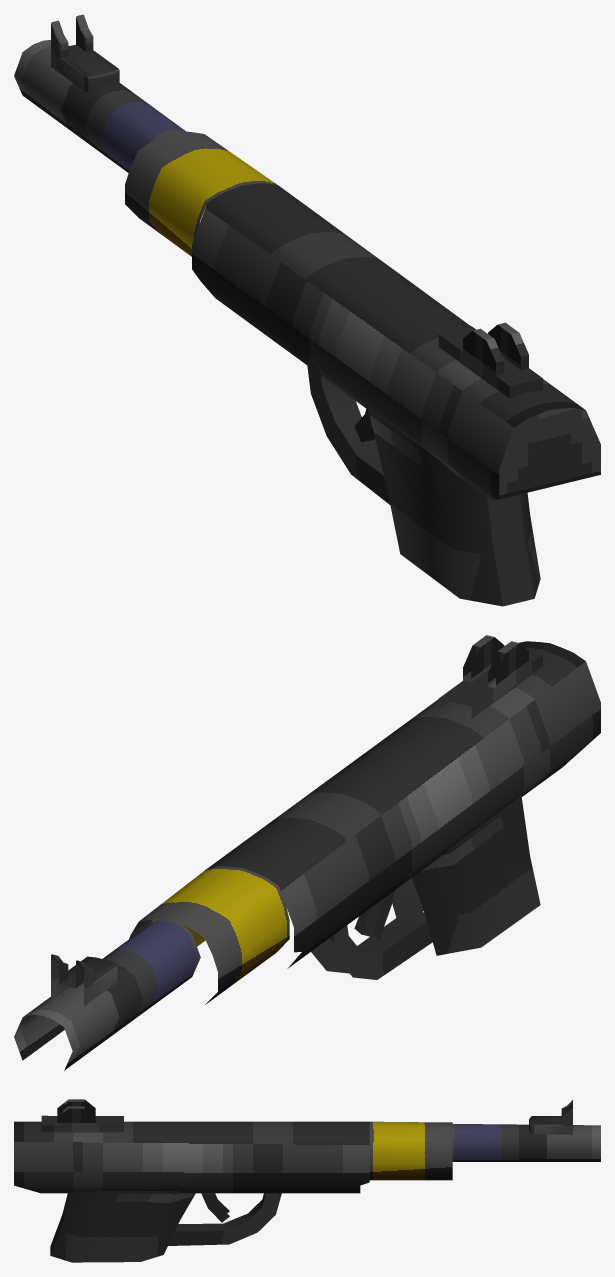
Rendered from v_dartgun.fbx.
3 views of the same model, one above another, from view 1: azimuth 30°, elevation 25°; view 2: azimuth 150°, elevation 25°; view 3: azimuth 270°, elevation 25° (orthographic). The views are drawn at different scales.
Parts seen in each view (by area): view 1: Cylinder; view 2: Cylinder; view 3: Cylinder.
Part boxes in pixels (x1,y1,x2,y2): Cylinder: [14, 14, 600, 606]; Cylinder: [14, 635, 600, 1070]; Cylinder: [14, 1099, 600, 1262].
Size of the model in its own units: 6.41 by 15.3 by 55.28.
